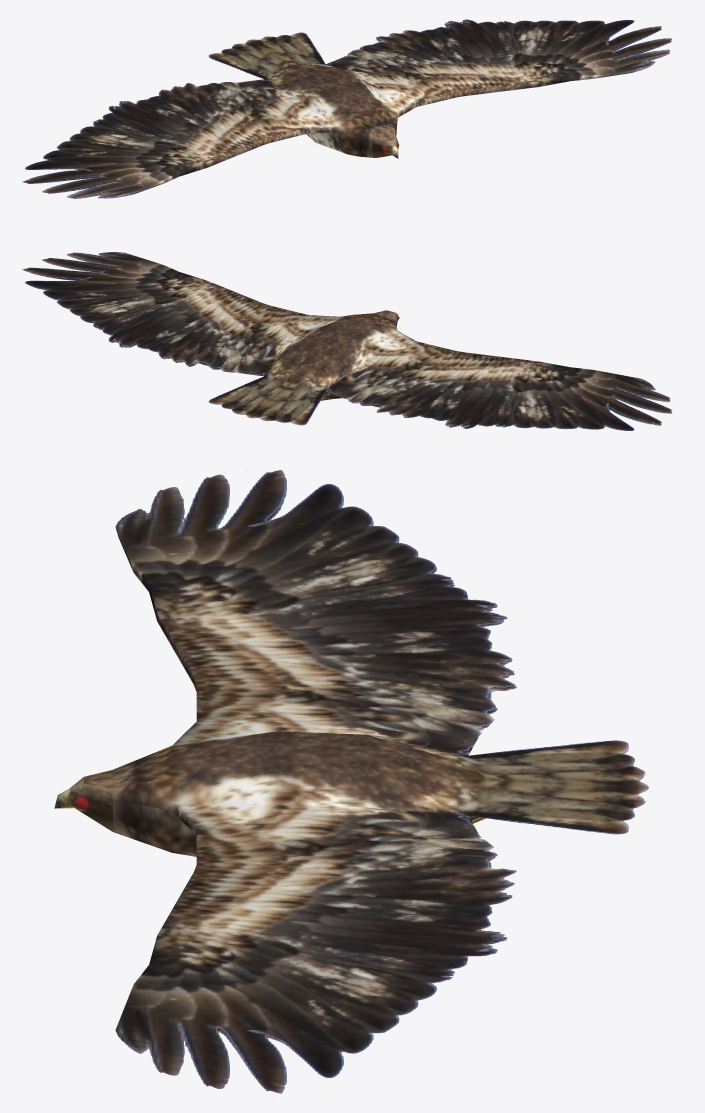
The model's file is Eagle 1.fbx.
The picture shows the model from 3 angles, top to bottom: view 1: azimuth 30°, elevation 25°; view 2: azimuth 150°, elevation 25°; view 3: azimuth 270°, elevation 25°; orthographic projection. The views are drawn at different scales.
Parts seen in each view (by area): view 1: node_id4; view 2: node_id4; view 3: node_id4.
Boxes of the visible parts, x1,y1,x2,y2 form: node_id4: [22, 19, 671, 198]; node_id4: [22, 252, 671, 430]; node_id4: [54, 470, 648, 1096].
Bounding box in the file's own units: 0.512 × 0.0405 × 0.2039.
1 material, 1 textured.
